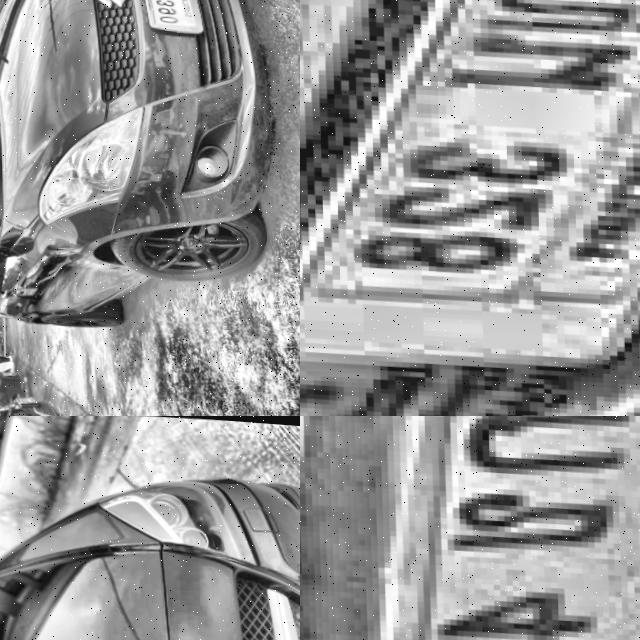license-plate: (300, 0, 640, 416), (341, 416, 640, 640), (135, 0, 205, 30)
